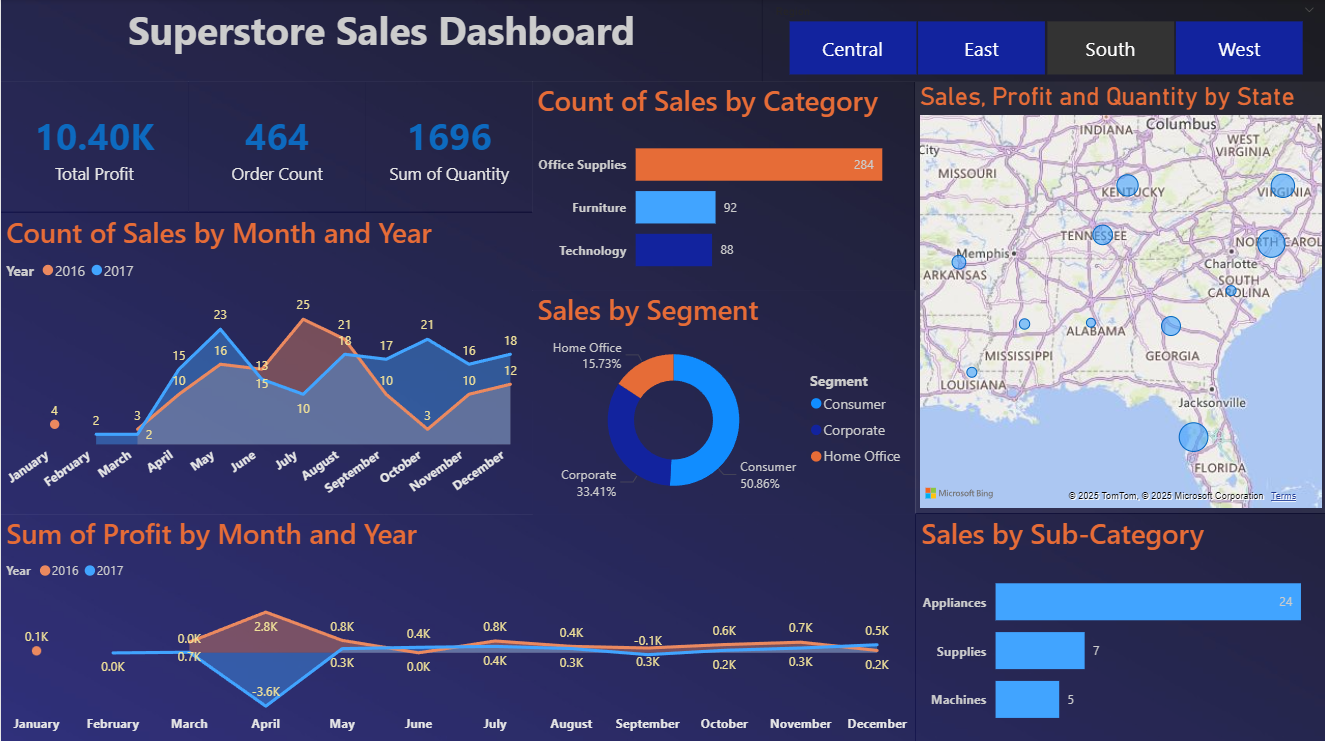

The dashboard page shown, as its layout file describes it:
{"tool":"powerbi","page":{"name":"Page 1","canvas":[1280,720],"ordinal":0},"visuals":[{"type":"clusteredBarChart","fields":{"Category":["Superstore.Category"],"Y":["CountNonNull(Superstore.Sales)"]},"box":[513.2,79.6,369.1,201.7],"z":0},{"type":"clusteredBarChart","title":"Sales by Sub-Category","fields":{"Y":["CountNonNull(Superstore.Sales)"],"Category":["Superstore.Sub-Category"]},"box":[882.9,497.1,397.1,222.9],"z":1000},{"type":"areaChart","fields":{"Category":["Superstore.Ship Date.Variation.Date Hierarchy.Month","Superstore.Ship Date.Variation.Date Hierarchy.Day"],"Y":["CountNonNull(Superstore.Sales)"],"Series":["Superstore.Order Date.Variation.Date Hierarchy.Year"]},"box":[0,205.7,512.9,291.4],"z":2000},{"type":"areaChart","fields":{"Category":["Superstore.Ship Date.Variation.Date Hierarchy.Month","Superstore.Ship Date.Variation.Date Hierarchy.Day"],"Series":["Superstore.Order Date.Variation.Date Hierarchy.Year"],"Y":["Sum(Superstore.Profit)"]},"box":[0,496.7,882.3,220.9],"z":3000},{"type":"map","title":"Sales, Profit and Quantity by State","fields":{"Category":["Superstore.State"],"Size":["CountNonNull(Superstore.Sales)"]},"box":[881.7,80,398.3,416.7],"z":4000},{"type":"donutChart","title":"Sales by Segment","fields":{"Category":["Superstore.Segment"],"Y":["CountNonNull(Superstore.Sales)"]},"box":[512.9,281.4,370,215.7],"z":5000},{"type":"slicer","title":"Region","fields":{"Values":["Superstore.Region"]},"box":[734.3,0,545.7,80],"z":6000},{"type":"textbox","box":[0,0,734.3,80],"z":7000},{"type":"card","fields":{"Values":["Superstore.Order Count"]},"box":[181.4,80,171.4,125.7],"z":8000},{"type":"card","fields":{"Values":["Superstore.Total Profit"]},"box":[0,80,180.8,125.8],"z":9000},{"type":"card","fields":{"Values":["Sum(Superstore.Quantity)"]},"box":[352.5,80,160.8,125.8],"z":10000}]}

Visuals, with their boxes in screenshot pixels (x1, y1, x2, y2), scaled from the page's 1280x720 canvas onto the 1325x741 screenshot:
clusteredBarChart - Superstore.Category x CountNonNull(Superstore.Sales): x1=531 y1=82 x2=913 y2=290
"Sales by Sub-Category" clusteredBarChart: x1=914 y1=512 x2=1324 y2=740
areaChart - Superstore.Ship Date.Variation.Date Hierarchy.Month x Superstore.Ship Date.Variation.Date Hierarchy.Day: x1=0 y1=212 x2=531 y2=512
areaChart - Superstore.Ship Date.Variation.Date Hierarchy.Month x Superstore.Ship Date.Variation.Date Hierarchy.Day: x1=0 y1=511 x2=913 y2=739
"Sales, Profit and Quantity by State" map: x1=913 y1=82 x2=1324 y2=511
"Sales by Segment" donutChart: x1=531 y1=290 x2=914 y2=512
"Region" slicer: x1=760 y1=0 x2=1324 y2=82
textbox: x1=0 y1=0 x2=760 y2=82
card - Superstore.Order Count: x1=188 y1=82 x2=365 y2=212
card - Superstore.Total Profit: x1=0 y1=82 x2=187 y2=212
card - Sum(Superstore.Quantity): x1=365 y1=82 x2=531 y2=212
